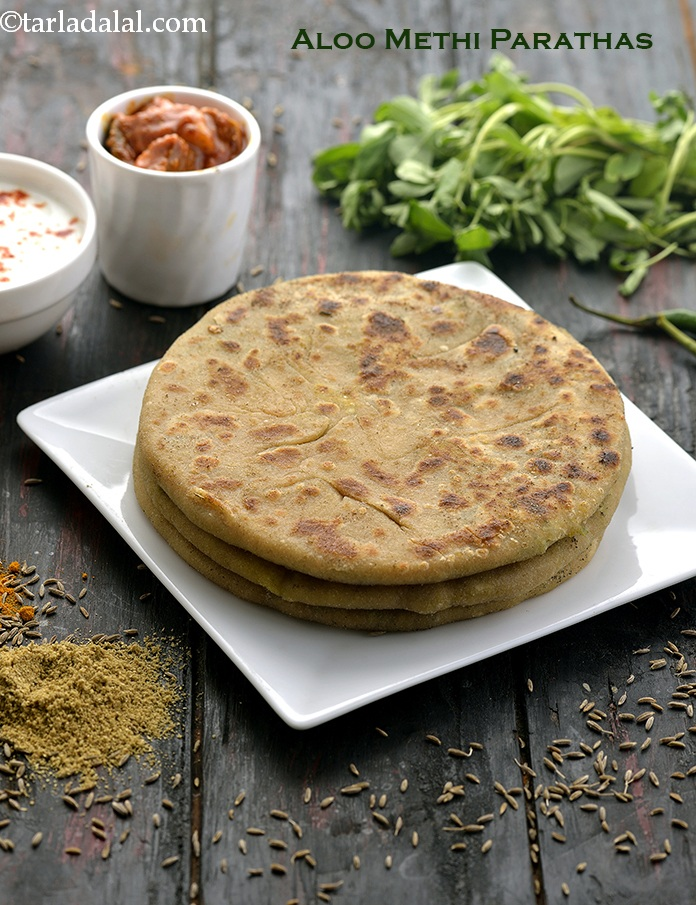aloo_paratha: (136, 266, 633, 628)
